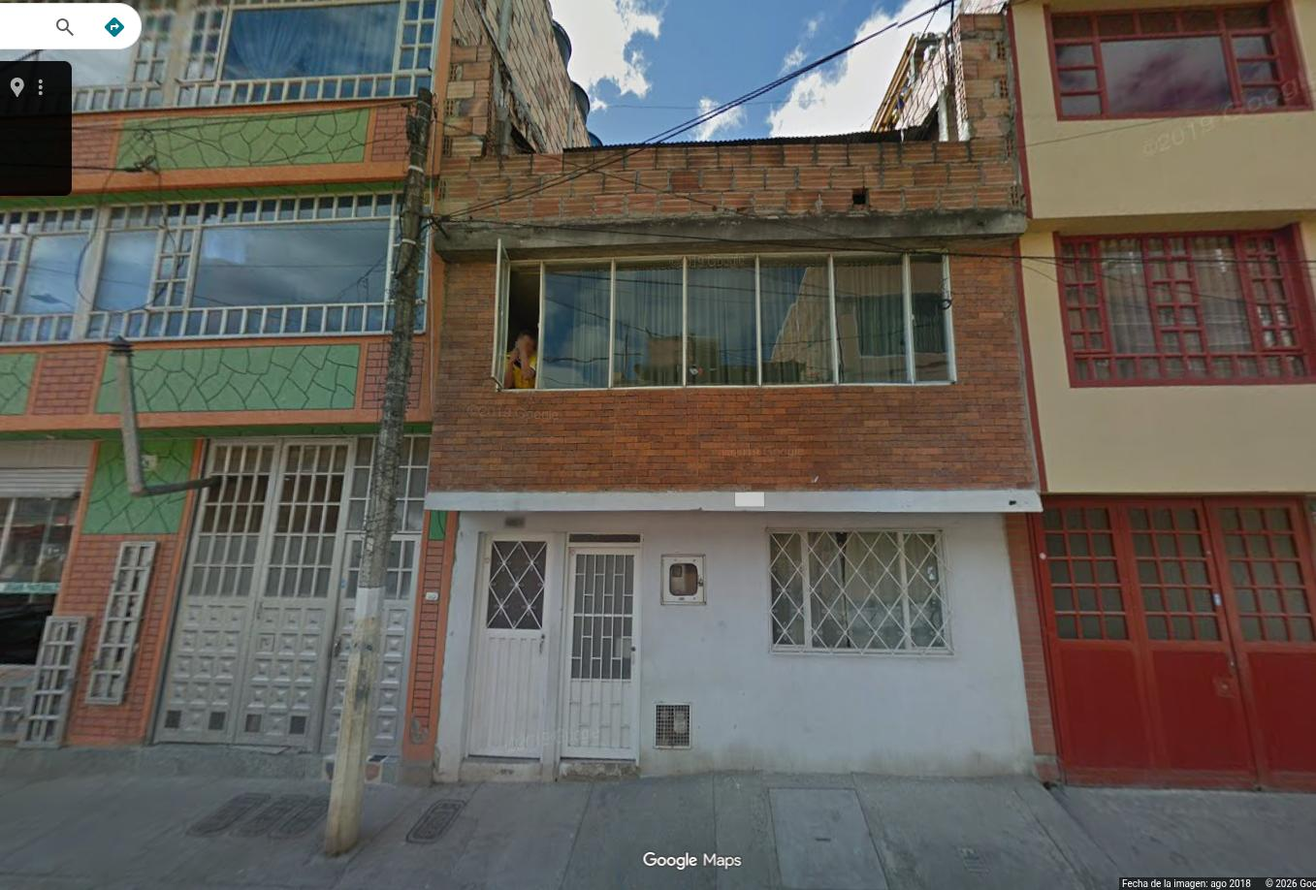casa: (423, 95, 1043, 775), (0, 0, 453, 756), (1007, 0, 1315, 787), (371, 265, 446, 758)
poste: (325, 88, 432, 855)
